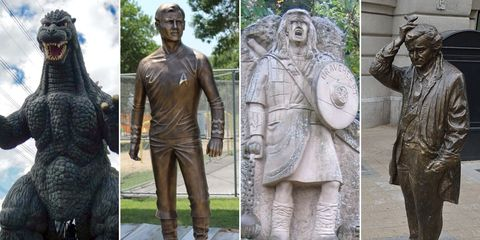person-like: (244, 6, 351, 240), (125, 1, 229, 240), (366, 12, 475, 240)
